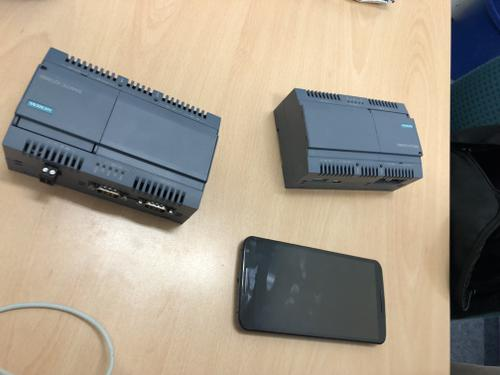device: (2, 47, 222, 225), (273, 88, 424, 192)
